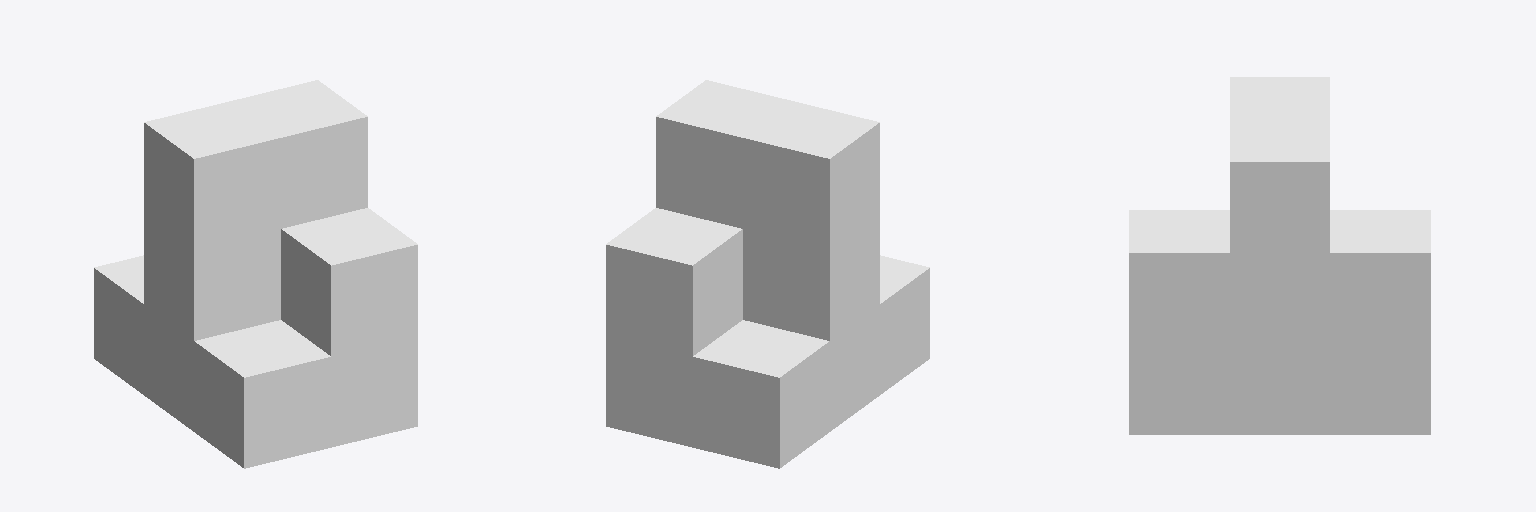
The model's file is bunker4_4.obj.
The picture shows the model from 3 angles: view 1: azimuth 30°, elevation 25°; view 2: azimuth 150°, elevation 25°; view 3: azimuth 270°, elevation 25°; orthographic projection.
Visible parts, largest first — view 1: bunker4_4; view 2: bunker4_4; view 3: bunker4_4.
Part boxes in pixels (x1,y1,x2,y2): bunker4_4: (94, 80, 417, 468); bunker4_4: (606, 80, 929, 468); bunker4_4: (1129, 77, 1430, 434).
Size of the model in its own units: 2 by 3 by 3.